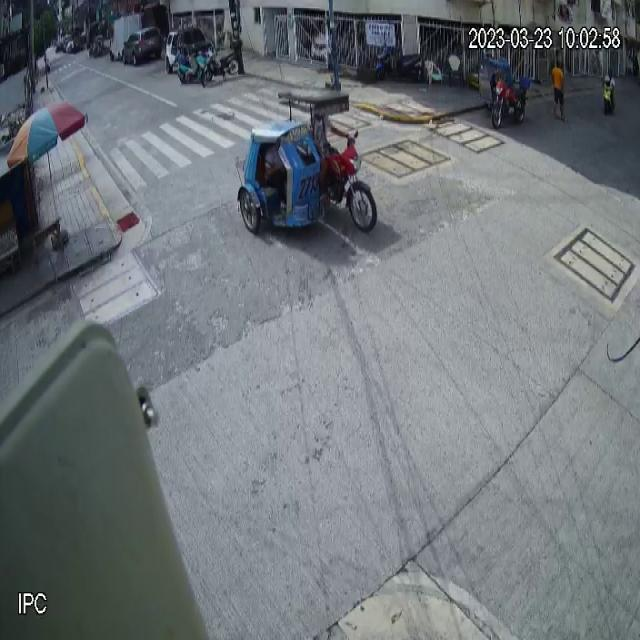Tricycle: (235, 87, 377, 235), (479, 56, 531, 129)
